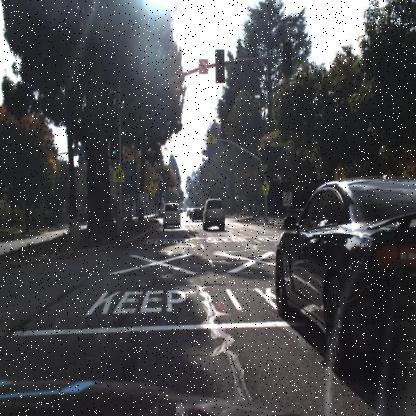car: (273, 156, 414, 411), (200, 196, 226, 232), (161, 202, 182, 231), (192, 206, 206, 223), (188, 208, 195, 219)
trafficLight: (214, 47, 226, 86), (283, 39, 292, 72)
trafficLight-Green: (108, 126, 120, 160), (109, 126, 119, 162), (283, 39, 292, 76), (216, 48, 224, 84)
